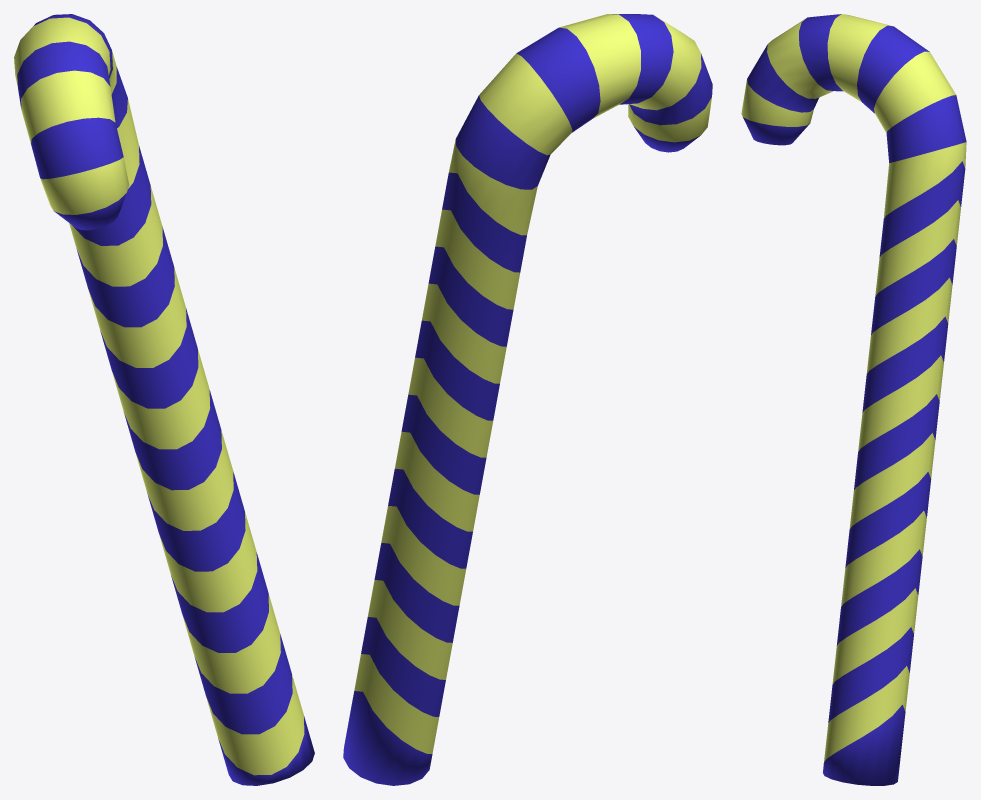
Rendered from candy_cane_yb2.fbx.
The picture shows the model from 3 angles, left to right: view 1: azimuth 30°, elevation 25°; view 2: azimuth 150°, elevation 25°; view 3: azimuth 270°, elevation 25°; orthographic projection. The views are drawn at different scales.
Visible parts, largest first — view 1: Cylinder; view 2: Cylinder; view 3: Cylinder.
Part boxes in pixels (box(x1,y1,x2,y2)): Cylinder: box(14, 14, 314, 785); Cylinder: box(343, 14, 712, 785); Cylinder: box(741, 14, 966, 785).
Bounding box in the file's own units: 768 × 1874 × 565.
